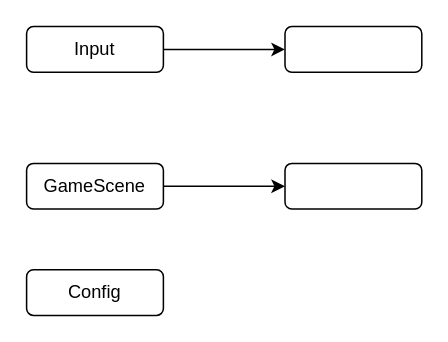
Some shapes in this 448 by 342 pixel diagram are drawn without their labels. The centre of each missing label's shape, as x and y in pixels:
"Player" goes at pixel 352 48.
"Ui" goes at pixel 352 185.
